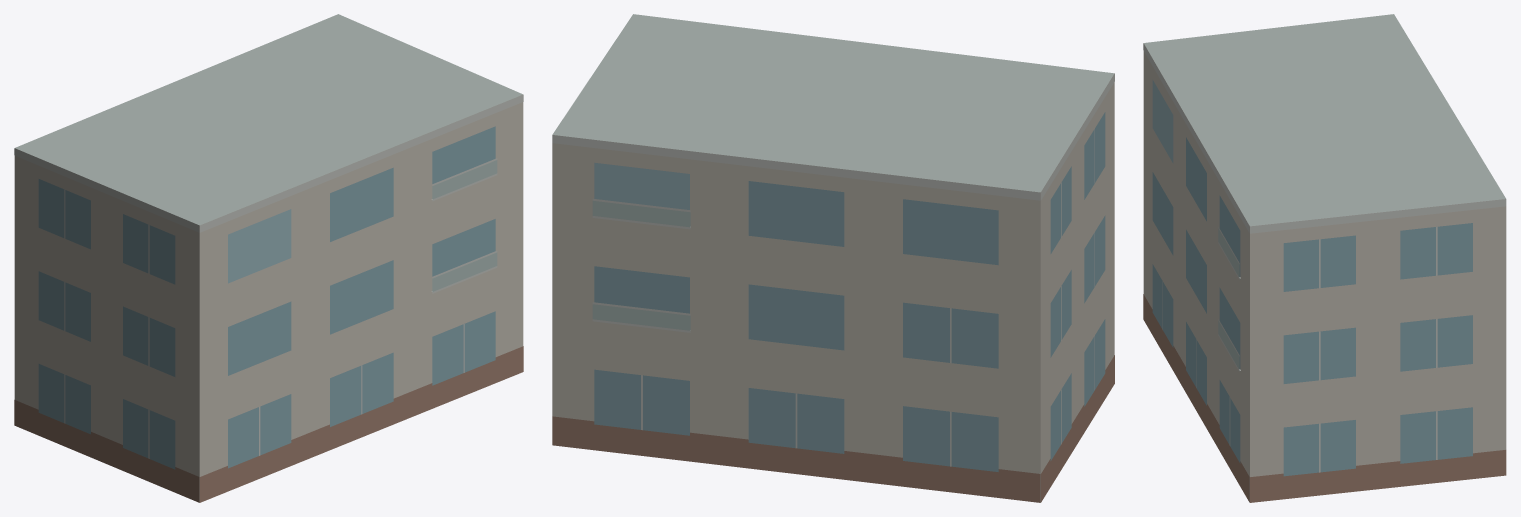
The model's file is survey-upis-32625155.glb.
3 renders of one model, left to right at view 1: azimuth 30°, elevation 25°; view 2: azimuth 150°, elevation 25°; view 3: azimuth 270°, elevation 25°, orthographic. The views are drawn at different scales.
Visible parts, largest first — view 1: survey-upis-32625155.tmp; view 2: survey-upis-32625155.tmp; view 3: survey-upis-32625155.tmp.
Boxes of the visible parts, x1=… form: survey-upis-32625155.tmp: x1=14, y1=14, x2=523, y2=502; survey-upis-32625155.tmp: x1=552, y1=14, x2=1114, y2=502; survey-upis-32625155.tmp: x1=1143, y1=14, x2=1506, y2=502.
Size of the model in its own units: 15.08 by 9.15 by 10.89.
